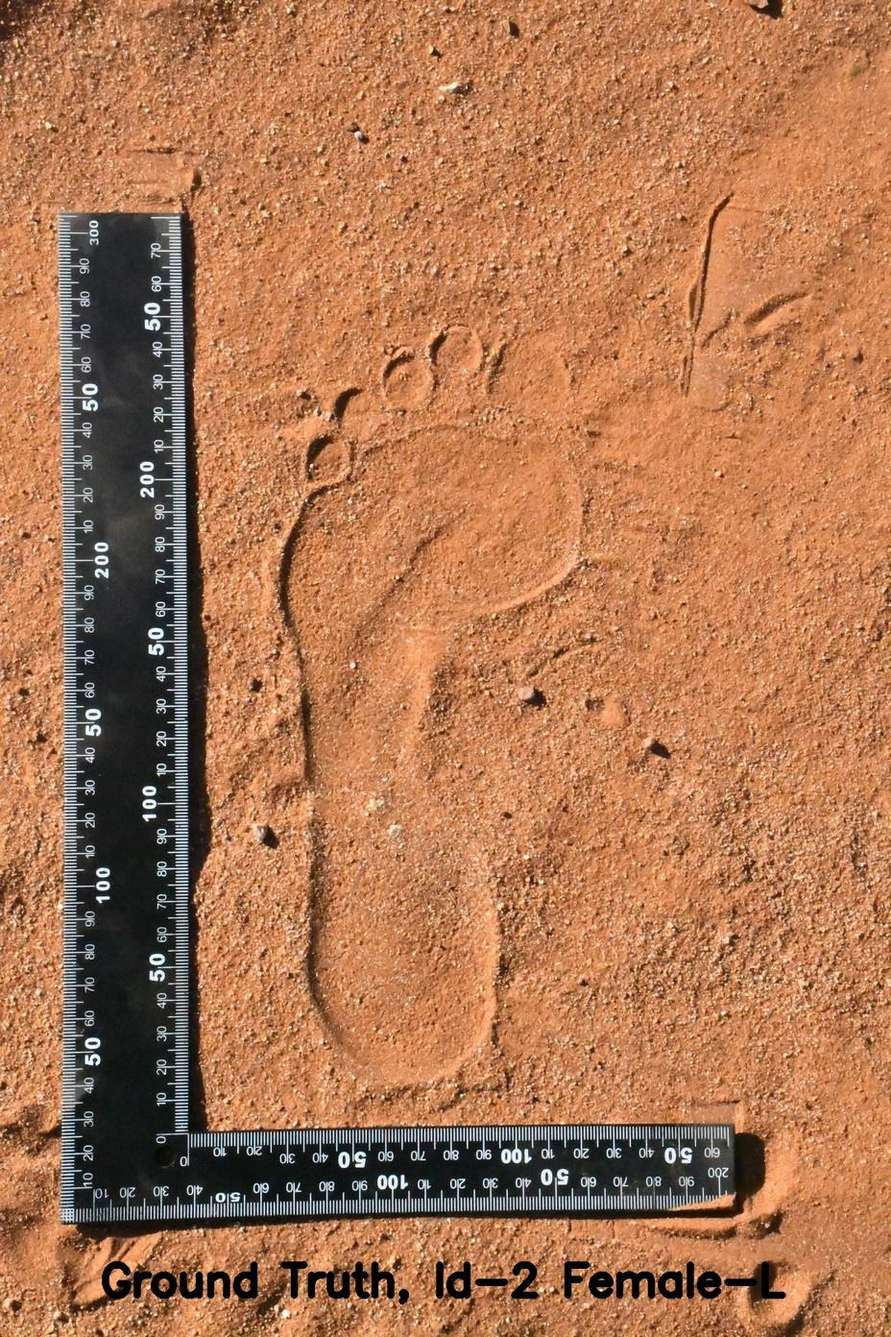human_foot_print: (237, 225, 650, 1111)
